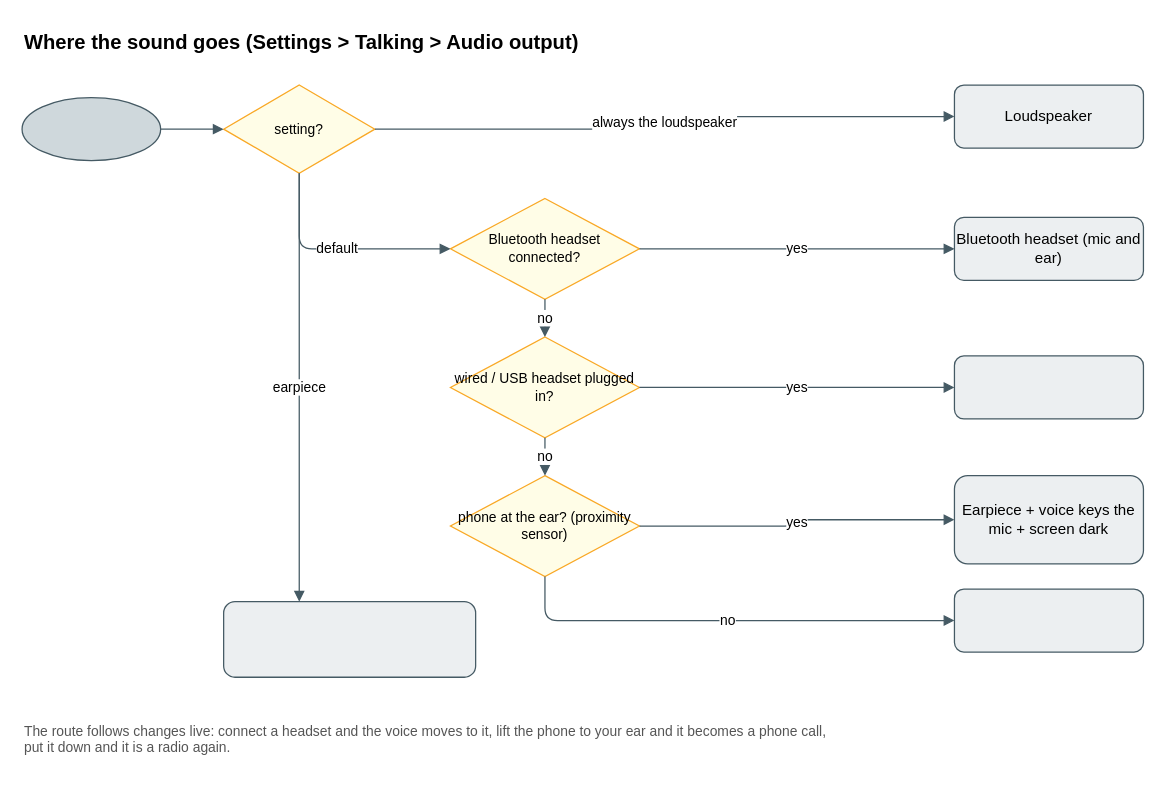
Some shapes in this 1166 by 799 pixel diagram are drawn without their labels. The centre of each missing label's shape, as x and y in pixels:
Earpiece always (voice keys the mic at the ear): the point at 349,638
Loudspeaker + the button: the point at 1048,620
on channel: the point at 91,128
Wired headset: the point at 1048,387
